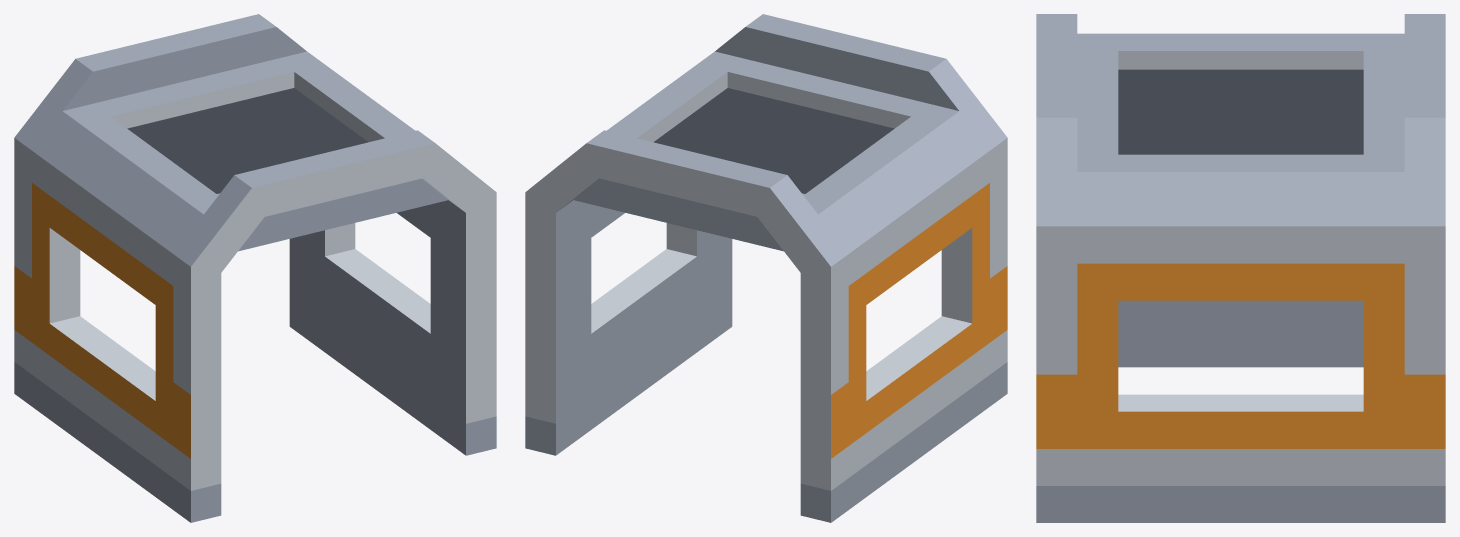
File: corridor_window.glb
3 renders of one model, left to right at view 1: azimuth 30°, elevation 25°; view 2: azimuth 150°, elevation 25°; view 3: azimuth 270°, elevation 25°, orthographic. The views are drawn at different scales.
Visible parts, largest first — view 1: corridor_window; view 2: corridor_window; view 3: corridor_window.
Boxes of the visible parts, x1,y1,x2,y2 form: corridor_window: (14, 14, 496, 522); corridor_window: (525, 14, 1007, 522); corridor_window: (1036, 14, 1445, 522).
Bounding box in the file's own units: 1 × 1 × 1.
